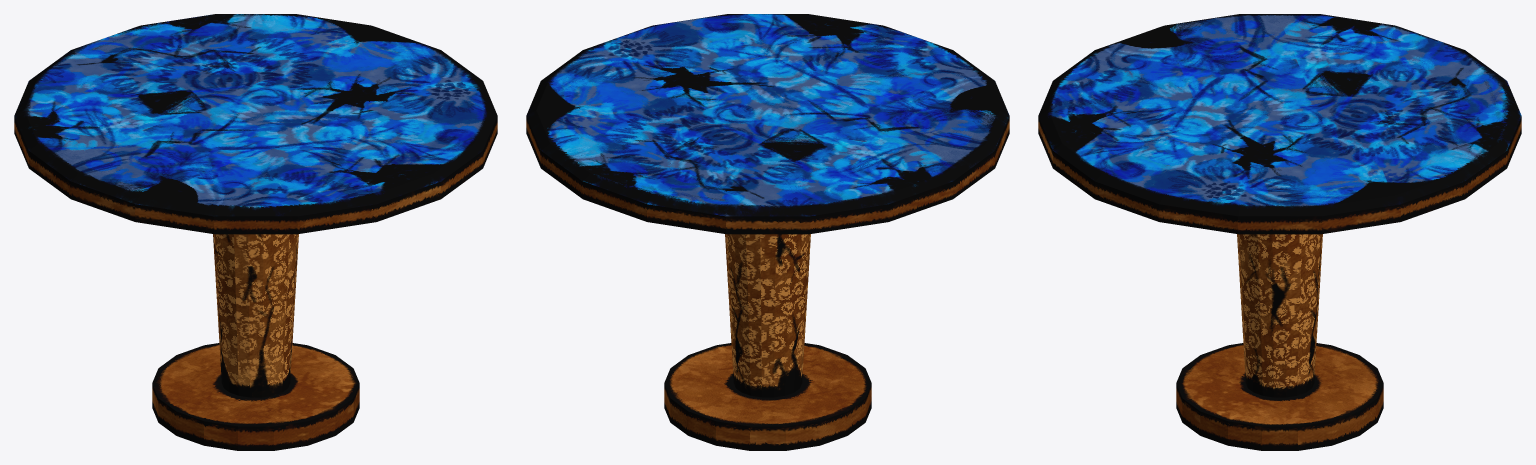
Rendered from RoundTable.fbx.
3 views of the same model, side by side, from view 1: azimuth 30°, elevation 25°; view 2: azimuth 150°, elevation 25°; view 3: azimuth 270°, elevation 25° (orthographic).
Visible parts, largest first — view 1: RoundTable; view 2: RoundTable; view 3: RoundTable.
Part boxes in pixels (bbox=[...]): RoundTable: bbox=[14, 14, 497, 450]; RoundTable: bbox=[526, 14, 1009, 450]; RoundTable: bbox=[1038, 14, 1521, 450].
Size of the model in its own units: 121 by 83.36 by 123.
